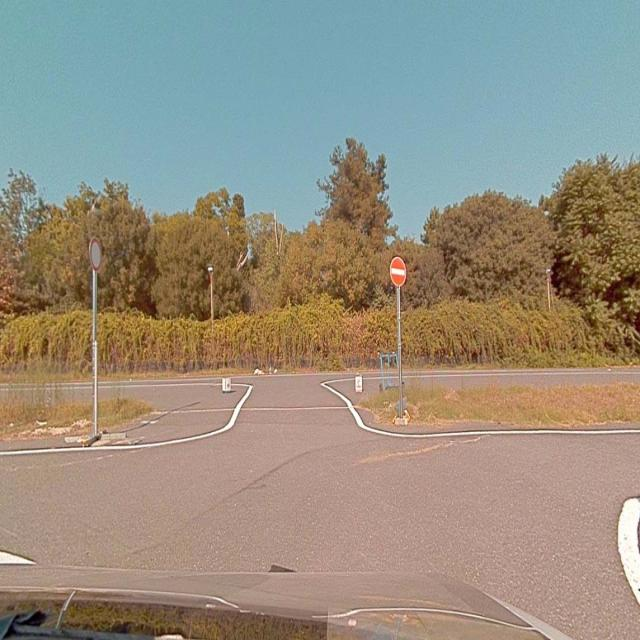girisyok: (390, 256, 406, 287)
